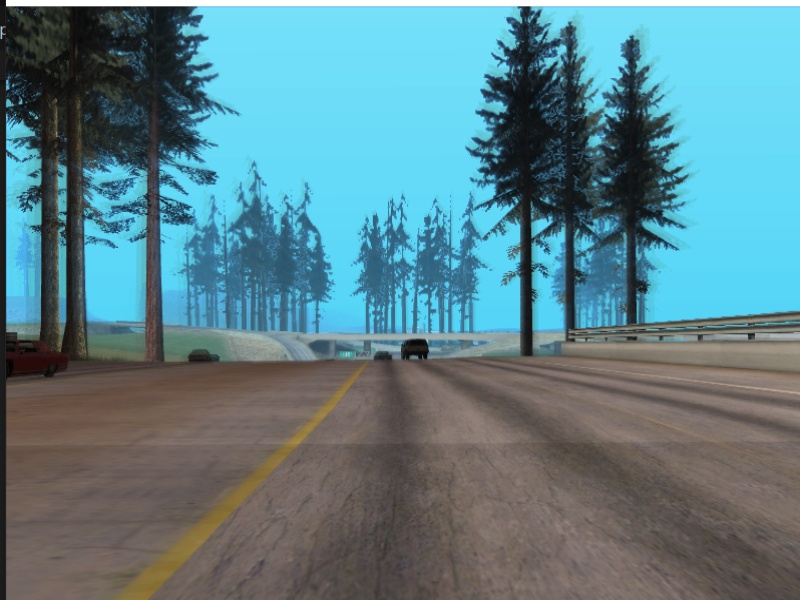tree: (141, 71, 171, 363), (515, 164, 539, 360)
vehicle: (4, 339, 73, 382), (398, 338, 432, 363), (187, 349, 212, 365), (371, 349, 391, 362)
